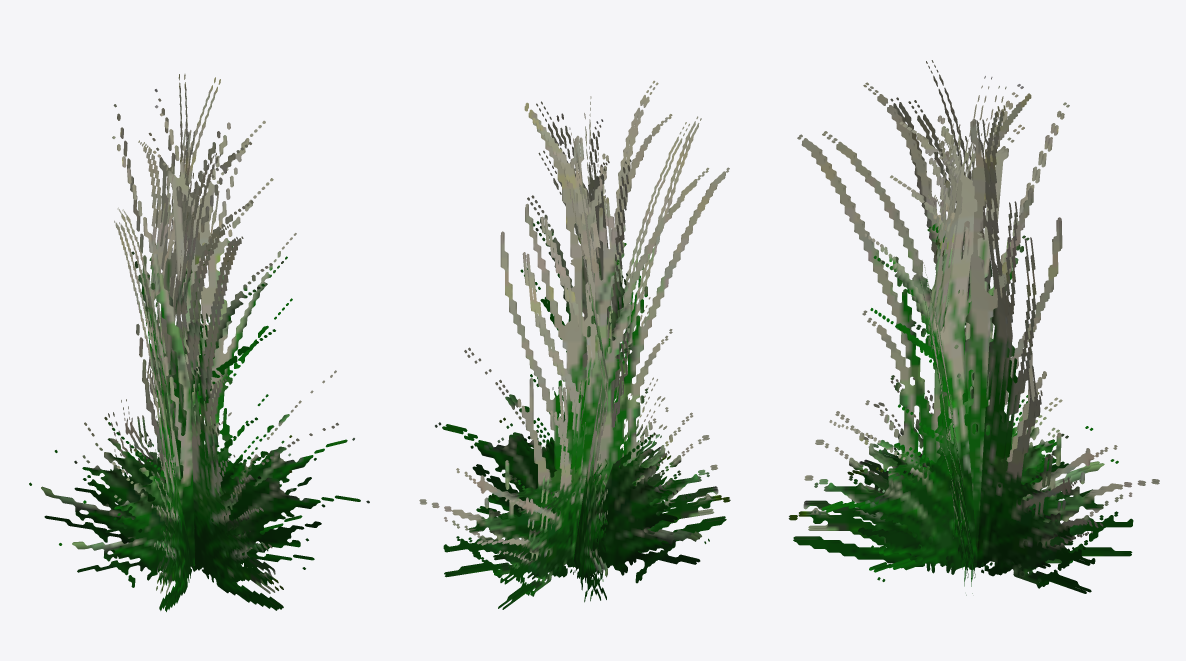
File: wrld_grass_1.glb
3 renders of one model, left to right at view 1: azimuth 30°, elevation 25°; view 2: azimuth 150°, elevation 25°; view 3: azimuth 270°, elevation 25°, orthographic. The views are drawn at different scales.
Parts seen in each view (by area): view 1: wrld_grass_1; view 2: wrld_grass_1; view 3: wrld_grass_1.
Boxes of the visible parts, box(x1,y1,x2,y2) form: wrld_grass_1: box(29, 74, 369, 611); wrld_grass_1: box(419, 80, 730, 609); wrld_grass_1: box(788, 60, 1159, 595).
Bounding box in the file's own units: 1.14 × 1.71 × 1.27.
1 material, 1 textured.
